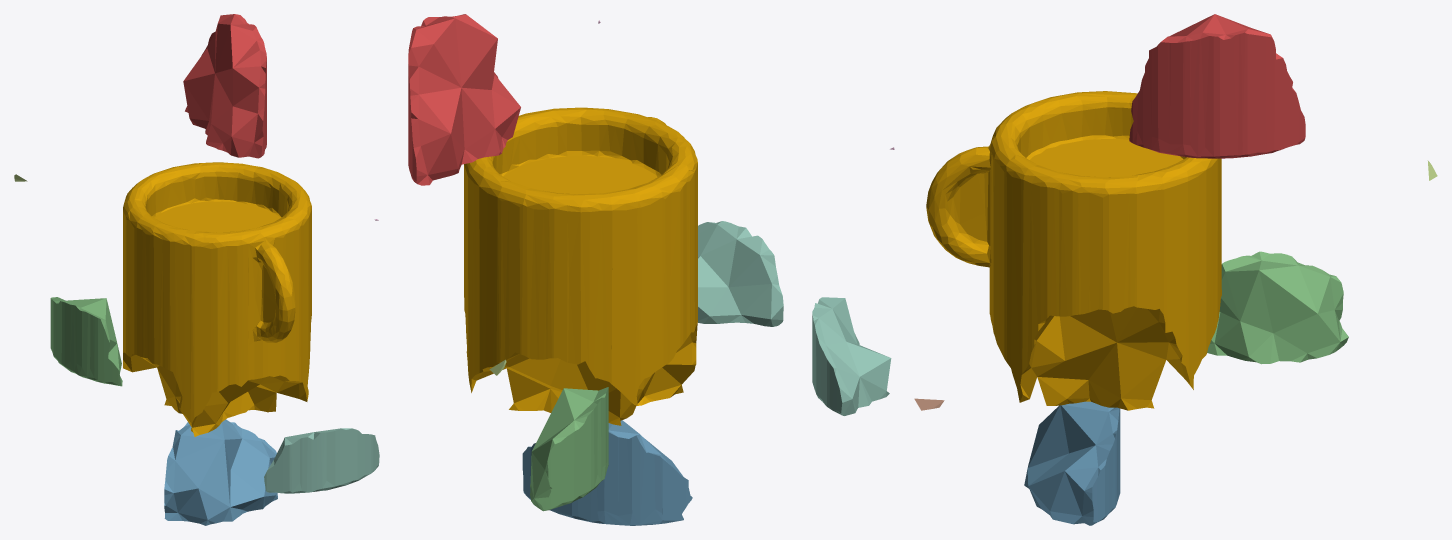
Rendered from mode_9_8pcs_transformed.glb.
3 renders of one model, left to right at view 1: azimuth 30°, elevation 25°; view 2: azimuth 150°, elevation 25°; view 3: azimuth 270°, elevation 25°, orthographic. The views are drawn at different scales.
Visible parts, largest first — view 1: piece_0.obj, piece_2.obj, piece_1.obj, piece_4.obj, piece_3.obj; view 2: piece_0.obj, piece_1.obj, piece_2.obj, piece_4.obj, piece_3.obj; view 3: piece_0.obj, piece_1.obj, piece_3.obj, piece_2.obj, piece_4.obj.
Boxes of the visible parts, x1,y1,x2,y2 form: piece_0.obj: (123,162,311,436); piece_2.obj: (164,419,277,525); piece_1.obj: (183,14,266,158); piece_4.obj: (264,428,379,493); piece_3.obj: (50,297,122,386); piece_0.obj: (464,107,697,425); piece_1.obj: (408,14,520,185); piece_2.obj: (522,420,692,525); piece_4.obj: (698,221,783,326); piece_3.obj: (530,387,608,511); piece_0.obj: (926,91,1221,410); piece_1.obj: (1129,14,1305,158); piece_3.obj: (1207,251,1348,364); piece_2.obj: (1024,401,1120,525); piece_4.obj: (812,297,891,415).
Size of the model in its own units: 0.7845 by 1.93 by 2.11.
